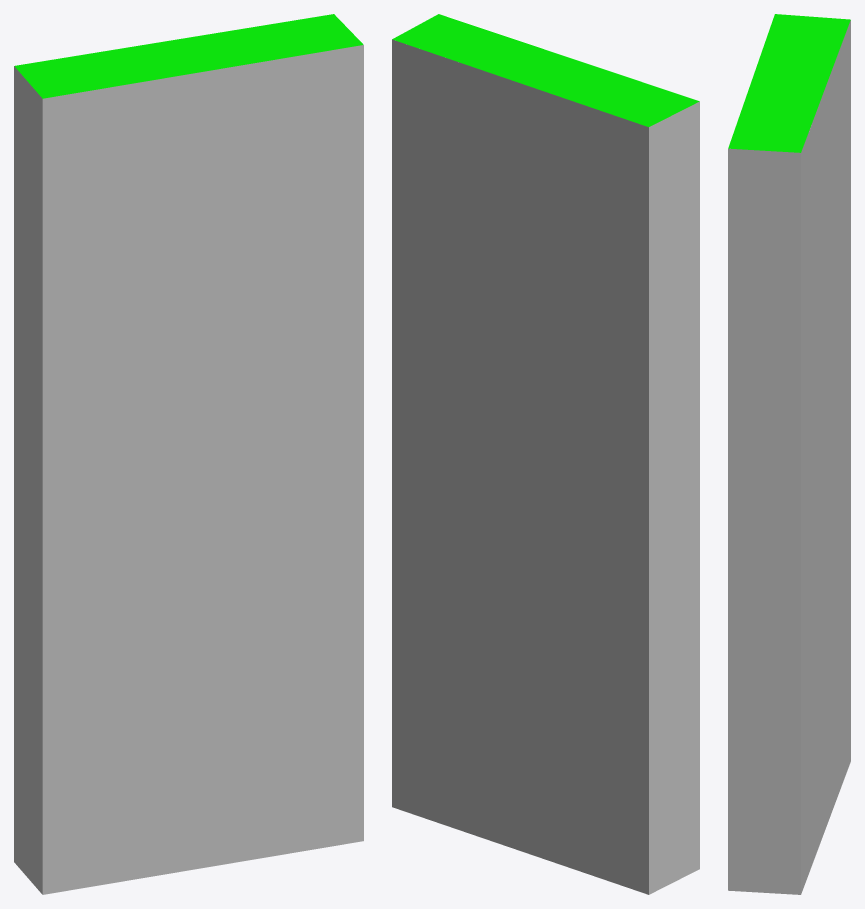
File: DEHB01ALs0000ivc.gltf
The picture shows the model from 3 angles, left to right: view 1: azimuth 30°, elevation 25°; view 2: azimuth 150°, elevation 25°; view 3: azimuth 270°, elevation 25°; orthographic projection. The views are drawn at different scales.
Visible parts, largest first — view 1: Z_UP; view 2: Z_UP; view 3: Z_UP.
Part boxes in pixels (<box>): Z_UP: <box>14,14,363,894</box>; Z_UP: <box>392,14,699,894</box>; Z_UP: <box>728,14,850,894</box>.
Bounding box in the file's own units: 3.15 × 7.85 × 1.18.
